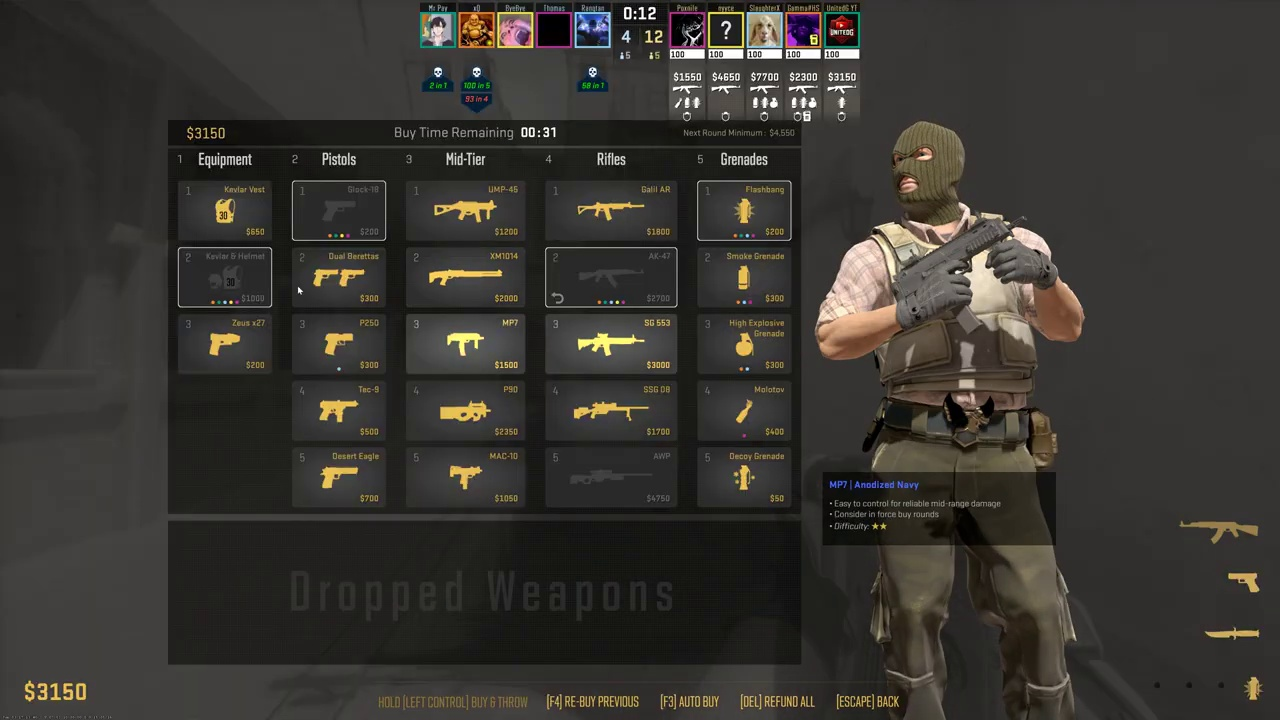Terrorist: (850, 121, 1075, 710)
